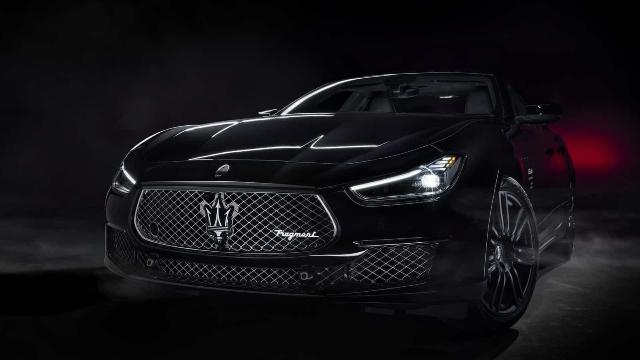maserati: (104, 70, 576, 328)
